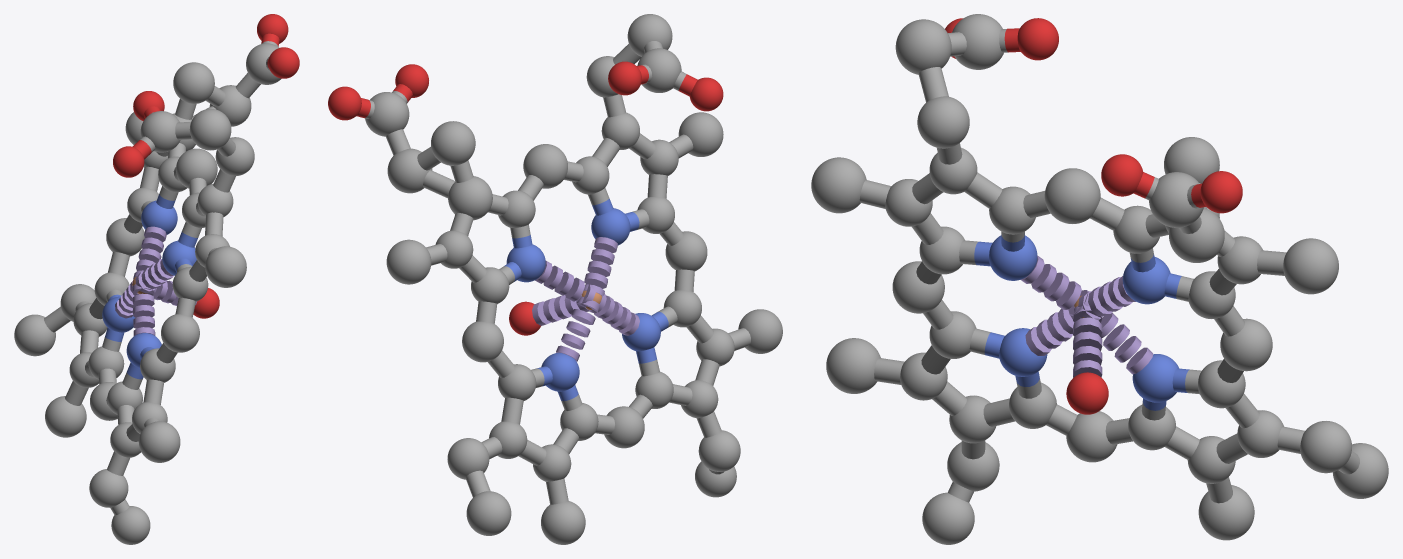
File: 1MBN_heme-bas-color-print_NIH3D.glb
The picture shows the model from 3 angles, left to right: view 1: azimuth 30°, elevation 25°; view 2: azimuth 150°, elevation 25°; view 3: azimuth 270°, elevation 25°; orthographic projection. The views are drawn at different scales.
Parts seen in each view (by area): view 1: atoms, bonds, pbonds; view 2: atoms, bonds, pbonds; view 3: atoms, bonds, pbonds.
Part boxes in pixels (x1,y1,x2,y2): atoms: (14, 14, 299, 544); bonds: (44, 33, 279, 515); pbonds: (115, 226, 196, 335); atoms: (328, 14, 782, 544); bonds: (356, 41, 750, 504); pbonds: (532, 237, 639, 361); atoms: (811, 14, 1388, 544); bonds: (859, 28, 1359, 503); pbonds: (1020, 255, 1152, 377).
Size of the model in its own units: 8.95 by 12.59 by 11.63.
